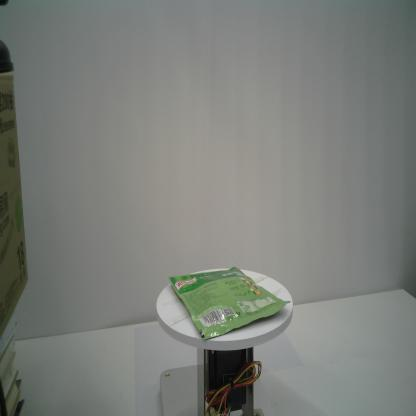Seasoner: (167, 264, 292, 341)
